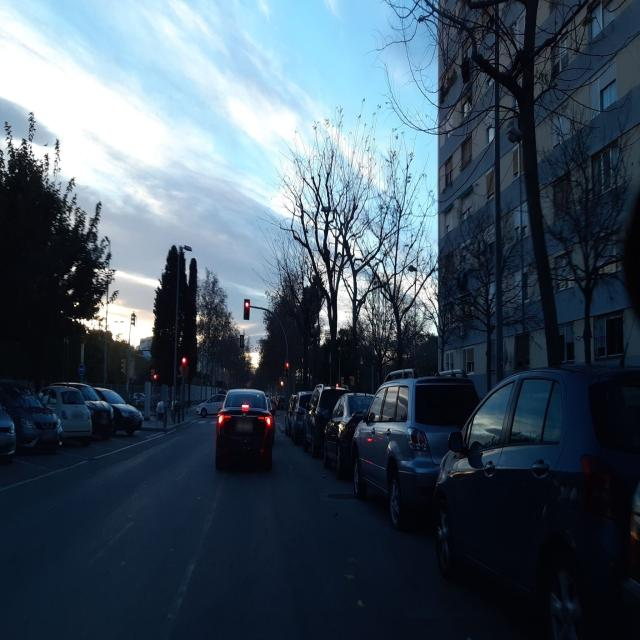car: (433, 361, 640, 638), (352, 369, 481, 530), (215, 388, 274, 474), (0, 376, 63, 453), (323, 390, 375, 479), (37, 385, 93, 447), (303, 384, 348, 458), (58, 381, 115, 439), (92, 387, 144, 436), (0, 384, 17, 469), (290, 390, 312, 446), (284, 392, 298, 437), (197, 398, 224, 418)
